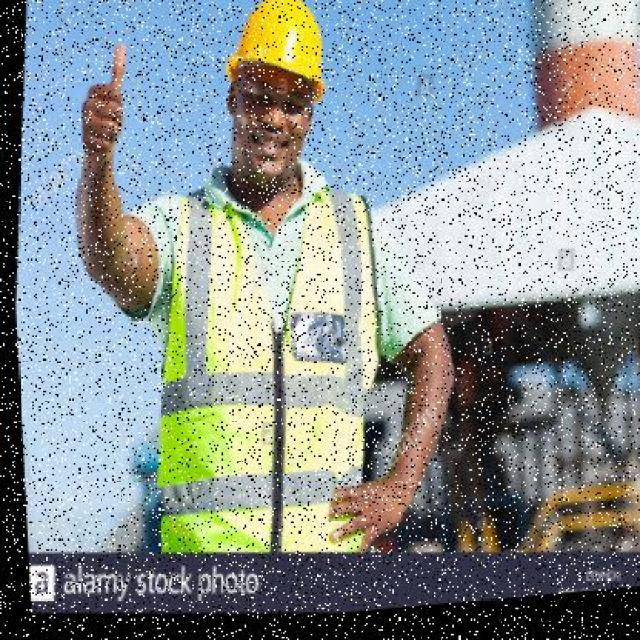helmet: (207, 0, 347, 112)
vest: (134, 143, 426, 564)
